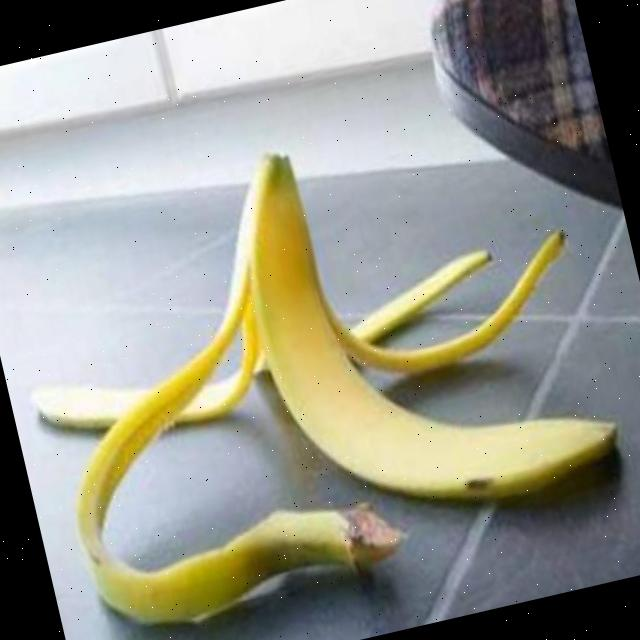banana-peel: (0, 87, 639, 640)
